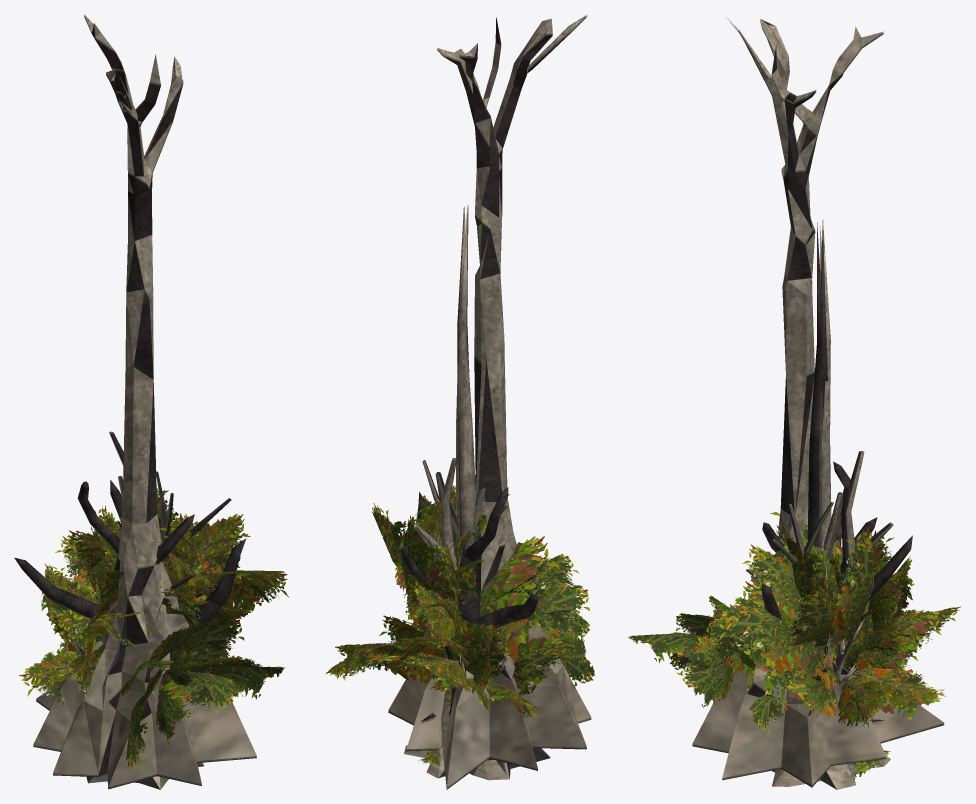
The model's file is Combined4Meshes.fbx.
3 renders of one model, left to right at view 1: azimuth 30°, elevation 25°; view 2: azimuth 150°, elevation 25°; view 3: azimuth 270°, elevation 25°, orthographic.
Visible parts, largest first — view 1: C1__trunk_jungle1_v3, C1__trunk_jungle1_v1, C1__trunk_branching_v1, C1__foliage3_v1, C2__foliage3_v1, C1__foliage5_v2, C2__foliage5_v2, C3__foliage5_v2, C1__foliage3_v2, C2__foliage3_v3, C2__foliage5_v3, C2__foliage3_v2 (+18 smaller); view 2: C1__trunk_jungle1_v3, C1__trunk_jungle1_v1, C1__trunk_branching_v1, C2__foliage1_v3, C1__trunk_jungle2_v3, C1__trunk_tall1_v3, C2__foliage2_v2, C1__foliage2_v2, C3__foliage2_v2, C2__foliage3_v1, C2__foliage1_v1, C2__foliage5_v3 (+30 smaller); view 3: C1__trunk_jungle1_v3, C1__trunk_jungle1_v1, C1__foliage5_v1, C2__foliage5_v1, C3__foliage5_v1, C1__trunk_jungle2_v1, C2__foliage3_v1, C1__foliage3_v1, C2__foliage5_v3, C1__trunk_branching_v1, C2__foliage2_v3, C1__trunk_jungle2_v3 (+22 smaller).
Part boxes in pixels (x1,y1,x2,y2): C1__trunk_jungle1_v3: (33,14,256,787); C1__trunk_jungle1_v1: (33,17,256,789); C1__trunk_branching_v1: (14,480,246,624); C1__foliage3_v1: (123,606,262,757); C2__foliage3_v1: (102,598,282,763); C1__foliage5_v2: (76,498,278,649); C2__foliage5_v2: (68,497,287,646); C3__foliage5_v2: (69,506,287,649); C1__foliage3_v2: (120,608,268,760); C2__foliage3_v3: (101,598,282,761); C2__foliage5_v3: (75,510,284,645); C2__foliage3_v2: (99,602,282,766); C1__trunk_jungle1_v3: (388,14,591,787); C1__trunk_jungle1_v1: (388,17,591,789); C1__trunk_branching_v1: (401,475,538,717); C2__foliage1_v3: (453,536,562,689); C1__trunk_jungle2_v3: (441,205,468,747); C1__trunk_tall1_v3: (459,207,476,536); C2__foliage2_v2: (330,547,525,709); C1__foliage2_v2: (336,555,522,721); C3__foliage2_v2: (326,543,524,708); C2__foliage3_v1: (536,554,594,681); C2__foliage1_v1: (431,545,559,693); C2__foliage5_v3: (372,485,550,627); C1__trunk_jungle1_v3: (692,17,944,785); C1__trunk_jungle1_v1: (692,18,943,787); C1__foliage5_v1: (731,533,874,681); C2__foliage5_v1: (726,517,873,681); C3__foliage5_v1: (725,524,873,678); C1__trunk_jungle2_v1: (807,222,821,547); C2__foliage3_v1: (632,596,785,727); C1__foliage3_v1: (652,608,786,721); C2__foliage5_v3: (722,528,877,681); C1__trunk_branching_v1: (762,461,912,680); C2__foliage2_v3: (838,556,954,722); C1__trunk_jungle2_v3: (822,220,831,549).
Size of the model in its own units: 617 by 2054 by 857.
1 material, 1 textured.
